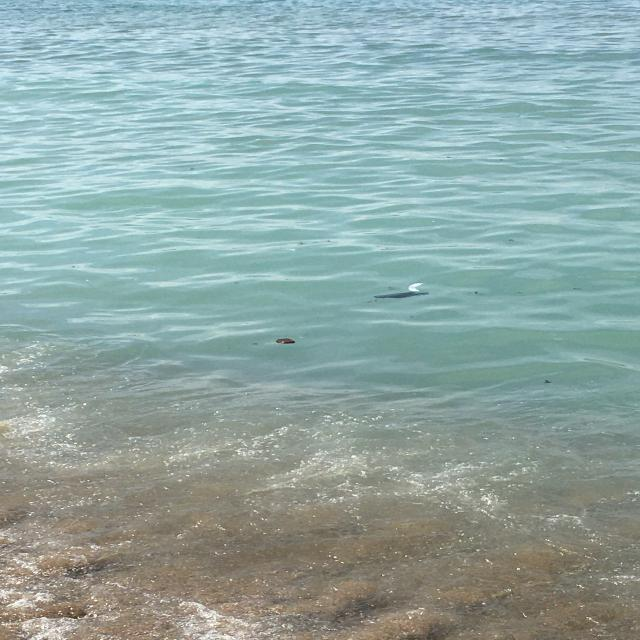Plastic: (407, 282, 424, 292)
Plastic bag: (372, 290, 430, 300)
Wood: (276, 337, 296, 345)
